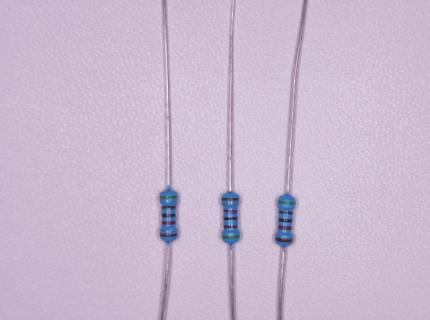Black band: (279, 218, 292, 223), (224, 217, 237, 221), (163, 214, 175, 217)
Brown band: (222, 197, 239, 201), (162, 233, 178, 237), (276, 238, 292, 242), (279, 211, 293, 214), (162, 206, 175, 209), (224, 225, 237, 228)
Green band: (278, 201, 295, 205), (160, 196, 176, 200), (223, 235, 239, 239)
Red band: (162, 221, 175, 225), (278, 226, 292, 229), (225, 210, 237, 213)
